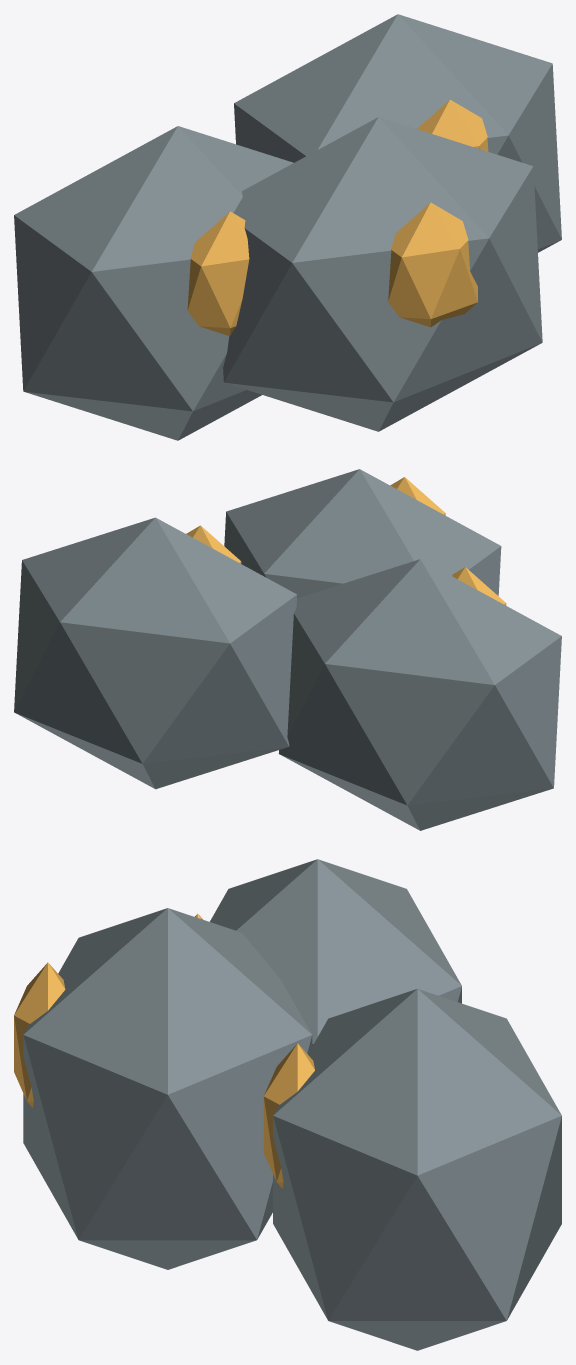
The model's file is CC_ResourceOre.fbx.
3 renders of one model, top to bottom at view 1: azimuth 30°, elevation 25°; view 2: azimuth 150°, elevation 25°; view 3: azimuth 270°, elevation 25°, orthographic. The views are drawn at different scales.
Visible parts, largest first — view 1: Ore.002, Ore, Ore.001, Facet.002, Facet, Facet.001; view 2: Ore.001, Ore, Ore.002, Facet, Facet.001, Facet.002; view 3: Ore.001, Ore.002, Ore, Facet.001, Facet.002.
Part boxes in pixels (bbox=[...]): Ore.002: bbox=[223, 117, 542, 431]; Ore: bbox=[14, 126, 293, 440]; Ore.001: bbox=[234, 14, 561, 252]; Facet.002: bbox=[388, 202, 477, 327]; Facet: bbox=[187, 211, 249, 335]; Facet.001: bbox=[417, 99, 488, 151]; Ore.001: bbox=[14, 517, 297, 789]; Ore: bbox=[278, 559, 561, 830]; Ore.002: bbox=[224, 469, 501, 598]; Facet: bbox=[452, 567, 506, 605]; Facet.001: bbox=[186, 525, 241, 563]; Facet.002: bbox=[390, 477, 445, 515]; Ore.001: bbox=[273, 989, 561, 1350]; Ore.002: bbox=[23, 908, 312, 1269]; Ore: bbox=[210, 859, 461, 1045]; Facet.001: bbox=[263, 1043, 314, 1188]; Facet.002: bbox=[14, 962, 65, 1107].
Size of the model in its own units: 0.7 by 0.3953 by 0.5044.
